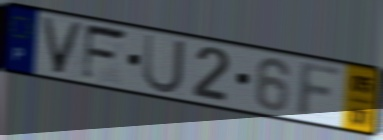2: (191, 46, 234, 106)
6: (254, 56, 291, 113)
F: (294, 60, 346, 122), (80, 22, 131, 84)
U: (141, 32, 187, 96)
V: (38, 15, 87, 77)
